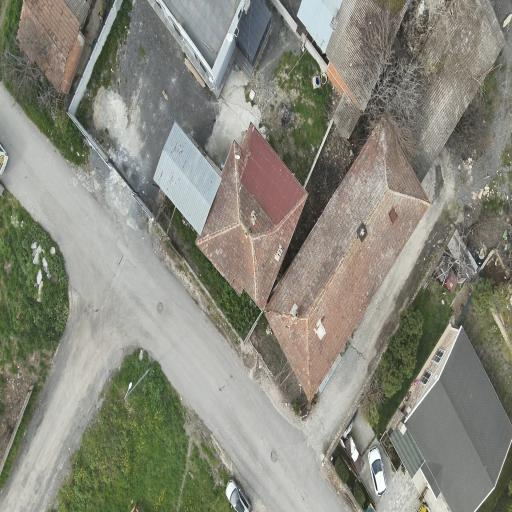car: (368, 447, 386, 496), (226, 479, 251, 511), (0, 145, 8, 175)
